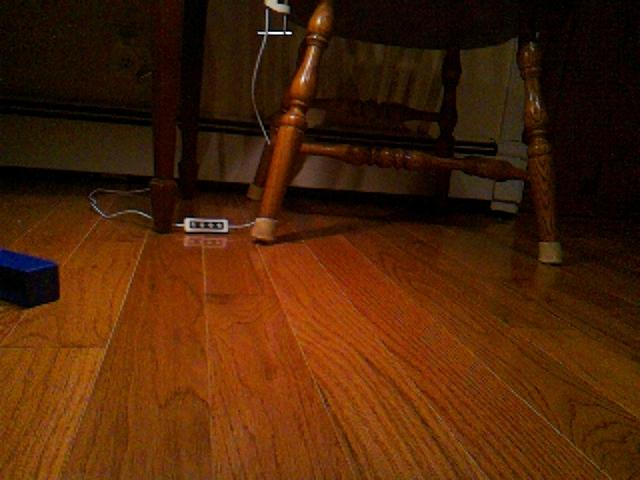blue: (1, 245, 62, 310)
